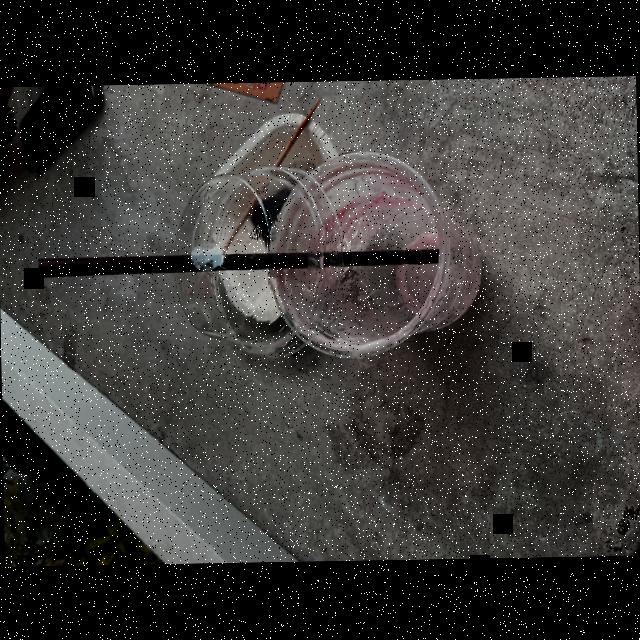plastic_cup: (266, 145, 488, 371)
plastic_cup_lid: (168, 160, 348, 352)
straw: (28, 243, 444, 280)
